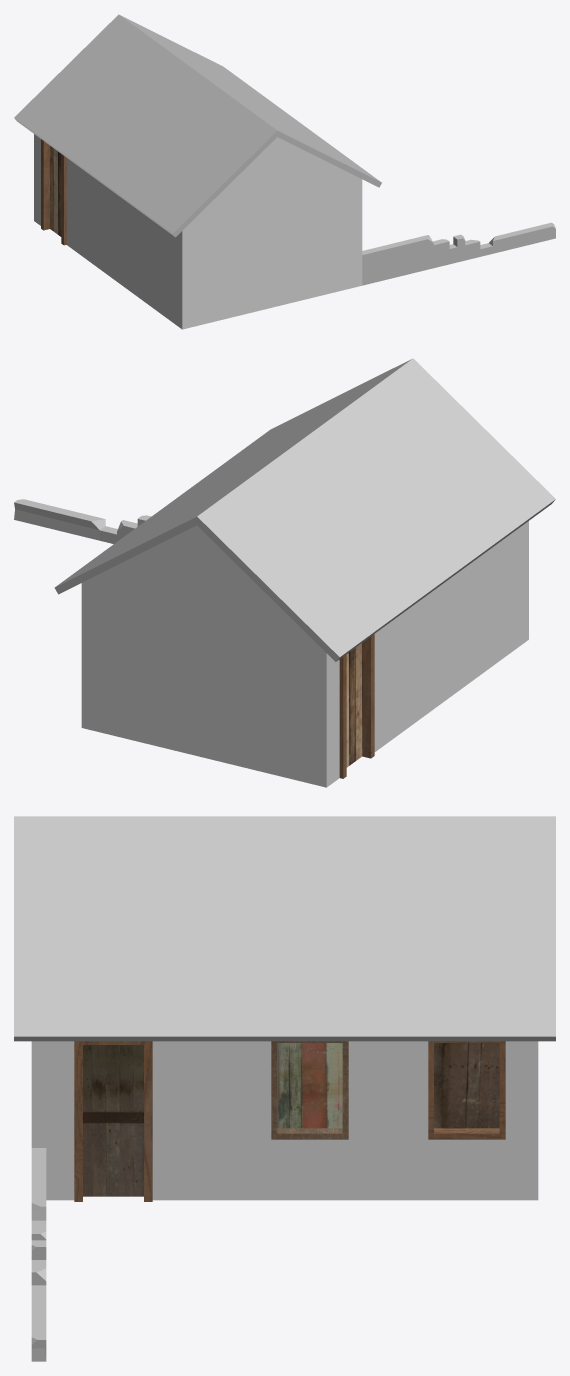
Rendered from 17_casa.fbx.
3 renders of one model, top to bottom at view 1: azimuth 30°, elevation 25°; view 2: azimuth 150°, elevation 25°; view 3: azimuth 270°, elevation 25°, orthographic. The views are drawn at different scales.
Parts seen in each view (by area): view 1: casa17_LOD0, telhado, mureta; view 2: casa17_LOD0, telhado, mureta; view 3: telhado, casa17_LOD0, mureta.
Part boxes in pixels (left/top/right/bottom): casa17_LOD0: left=34, top=134, right=362, bottom=329; telhado: left=14, top=14, right=381, bottom=237; mureta: left=362, top=222, right=555, bottom=285; casa17_LOD0: left=81, top=521, right=528, bottom=787; telhado: left=54, top=358, right=555, bottom=661; mureta: left=14, top=499, right=151, bottom=543; telhado: left=14, top=816, right=555, bottom=1041; casa17_LOD0: left=31, top=1041, right=538, bottom=1201; mureta: left=31, top=1148, right=46, bottom=1361.
Size of what is drawn, in the model's own units: 756 by 336 by 535.
